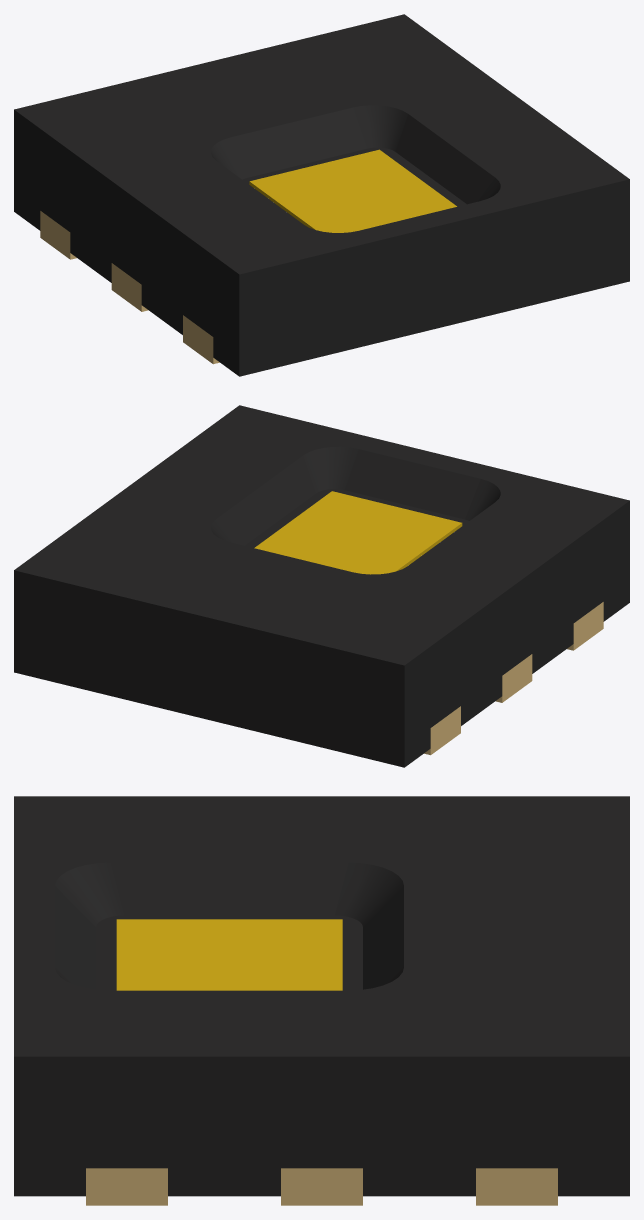
The model's file is kc-texas_s-pwson-n6-hdc2080.glb.
3 renders of one model, top to bottom at view 1: azimuth 30°, elevation 25°; view 2: azimuth 150°, elevation 25°; view 3: azimuth 270°, elevation 25°, orthographic. The views are drawn at different scales.
Parts seen in each view (by area): view 1: 0_0_0_0, 0.6666666666666666_0.4166666666666667_0_0, 0.75_0.5_0.25_0.9; view 2: 0_0_0_0, 0.6666666666666666_0.4166666666666667_0_0, 0.75_0.5_0.25_0.9; view 3: 0_0_0_0, 0.6666666666666666_0.4166666666666667_0_0, 0.75_0.5_0.25_0.9.
Part boxes in pixels (x1=…): 0_0_0_0: x1=14, y1=14, x2=629, y2=376; 0.6666666666666666_0.4166666666666667_0_0: x1=249, y1=149, x2=456, y2=232; 0.75_0.5_0.25_0.9: x1=40, y1=211, x2=219, y2=364; 0_0_0_0: x1=14, y1=405, x2=629, y2=767; 0.6666666666666666_0.4166666666666667_0_0: x1=254, y1=491, x2=462, y2=574; 0.75_0.5_0.25_0.9: x1=424, y1=602, x2=603, y2=755; 0_0_0_0: x1=14, y1=796, x2=629, y2=1196; 0.6666666666666666_0.4166666666666667_0_0: x1=116, y1=919, x2=342, y2=990; 0.75_0.5_0.25_0.9: x1=86, y1=1168, x2=557, y2=1205.
Size of the model in its own units: 0.3 by 0.08 by 0.3.
